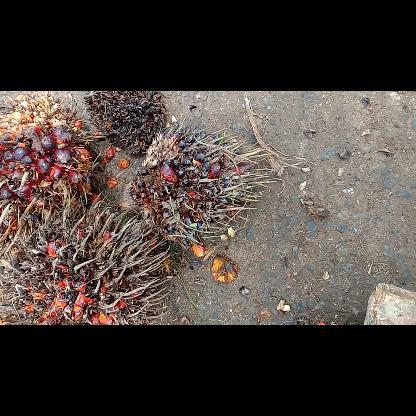TBS abnormal: (120, 126, 280, 258), (83, 90, 171, 156)
TBS masak: (0, 91, 99, 210)
Terlalu masak: (0, 200, 174, 324)
